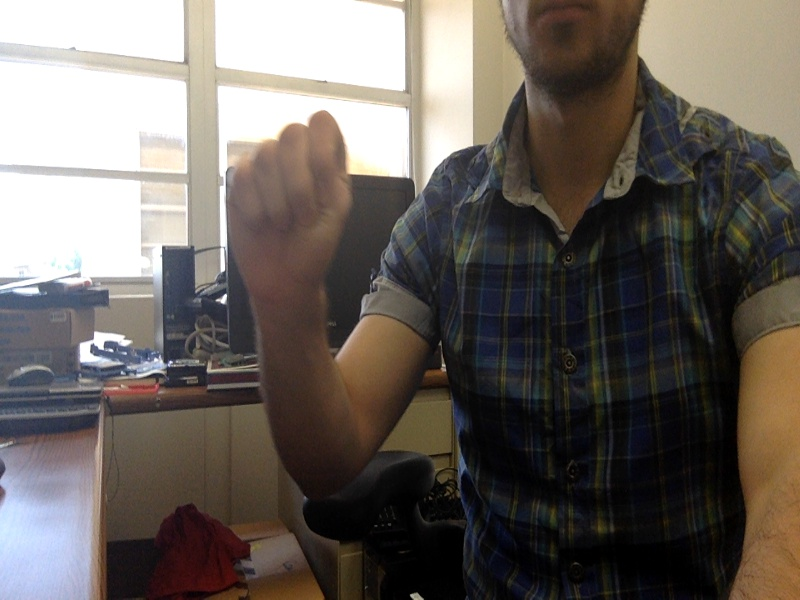0-hand: (225, 112, 353, 303)
